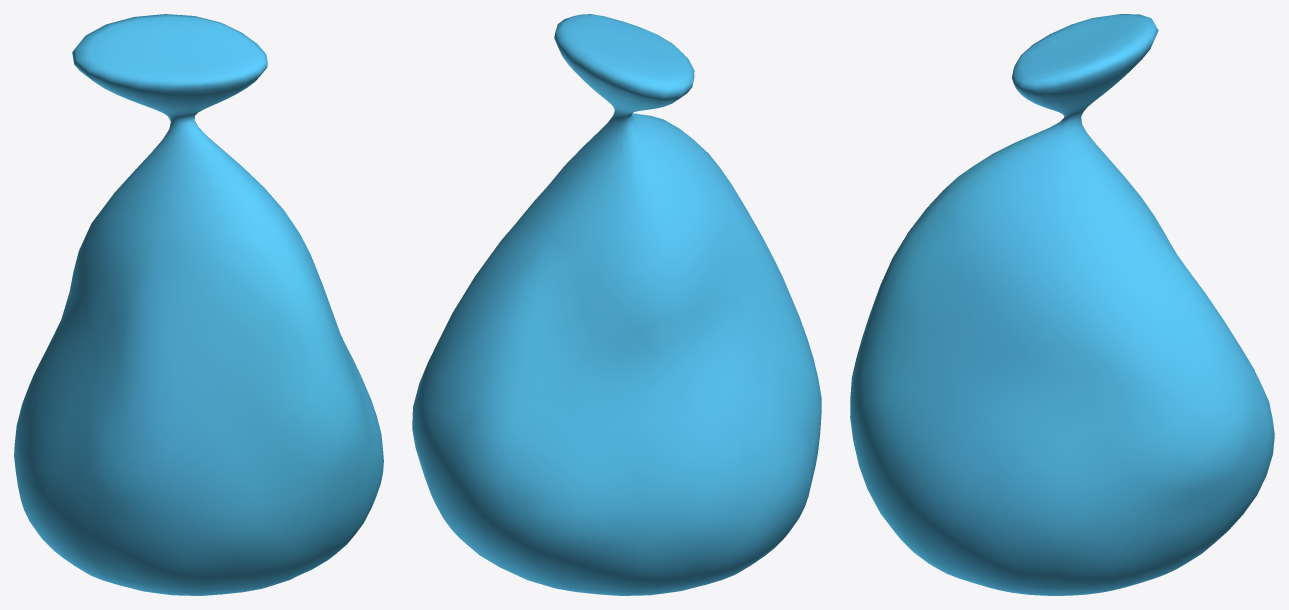
Rendered from GarbageBag_01.fbx.
The picture shows the model from 3 angles, left to right: view 1: azimuth 30°, elevation 25°; view 2: azimuth 150°, elevation 25°; view 3: azimuth 270°, elevation 25°; orthographic projection. The views are drawn at different scales.
Visible parts, largest first — view 1: GarbageBag_01; view 2: GarbageBag_01; view 3: GarbageBag_01.
Part boxes in pixels (x1,y1,x2,y2): GarbageBag_01: (14,14,383,595); GarbageBag_01: (412,14,821,595); GarbageBag_01: (850,14,1274,595).
Size of the model in its own units: 1.28 by 1.46 by 1.96.
